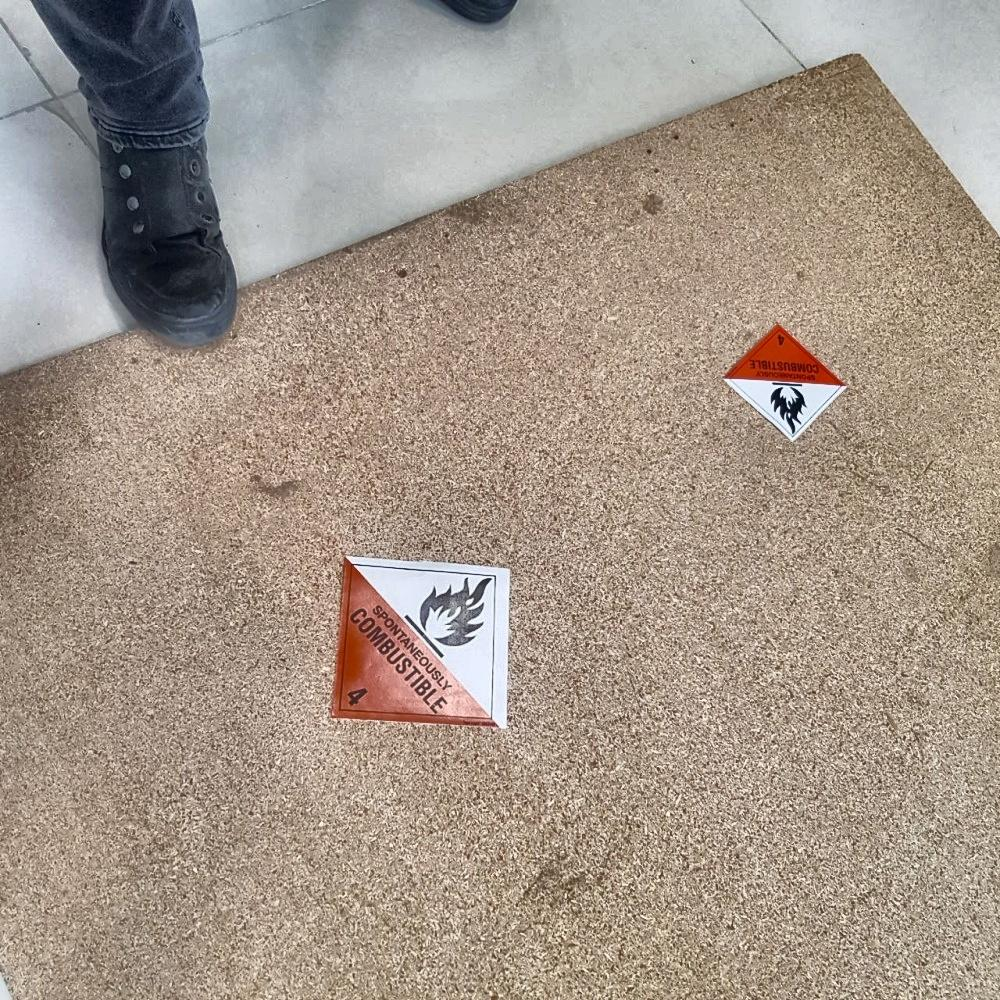spontaneously-combustible: (332, 557, 510, 723), (727, 322, 843, 437)
